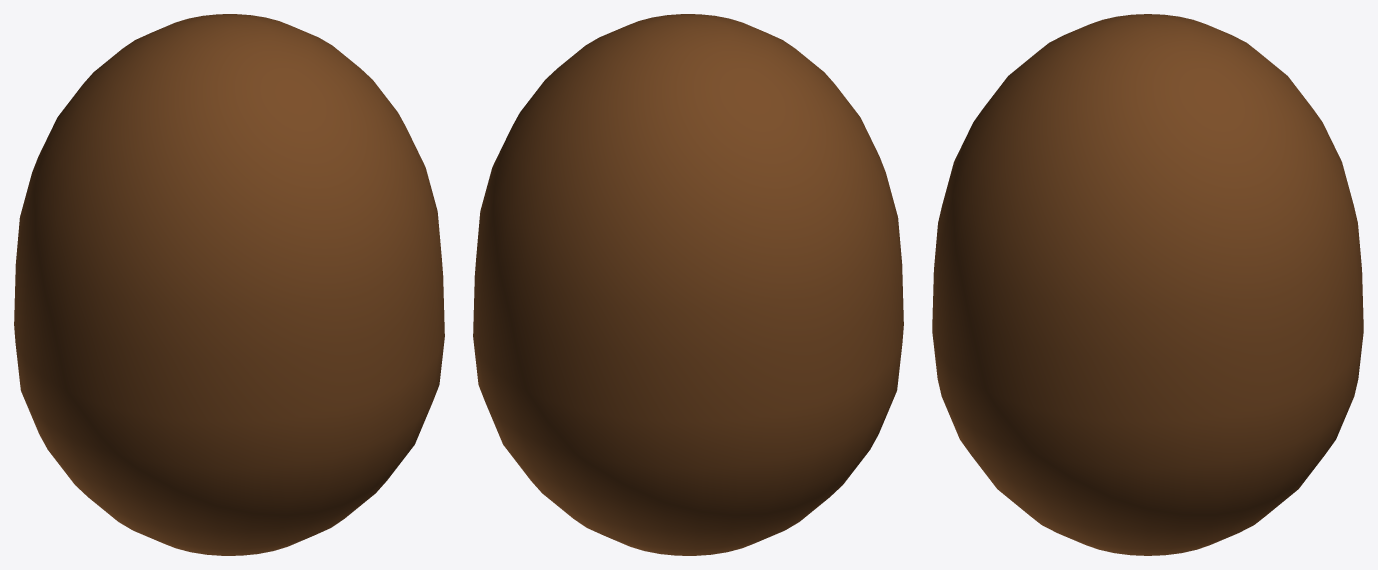
The model's file is body.fbx.
The picture shows the model from 3 angles, left to right: view 1: azimuth 30°, elevation 25°; view 2: azimuth 150°, elevation 25°; view 3: azimuth 270°, elevation 25°; orthographic projection.
Visible parts, largest first — view 1: Sphere; view 2: Sphere; view 3: Sphere.
Part boxes in pixels (box(x1,y1,x2,y2)): Sphere: box(14, 14, 444, 555); Sphere: box(473, 14, 903, 555); Sphere: box(932, 14, 1363, 555).
Bounding box in the file's own units: 103 × 134 × 103.
